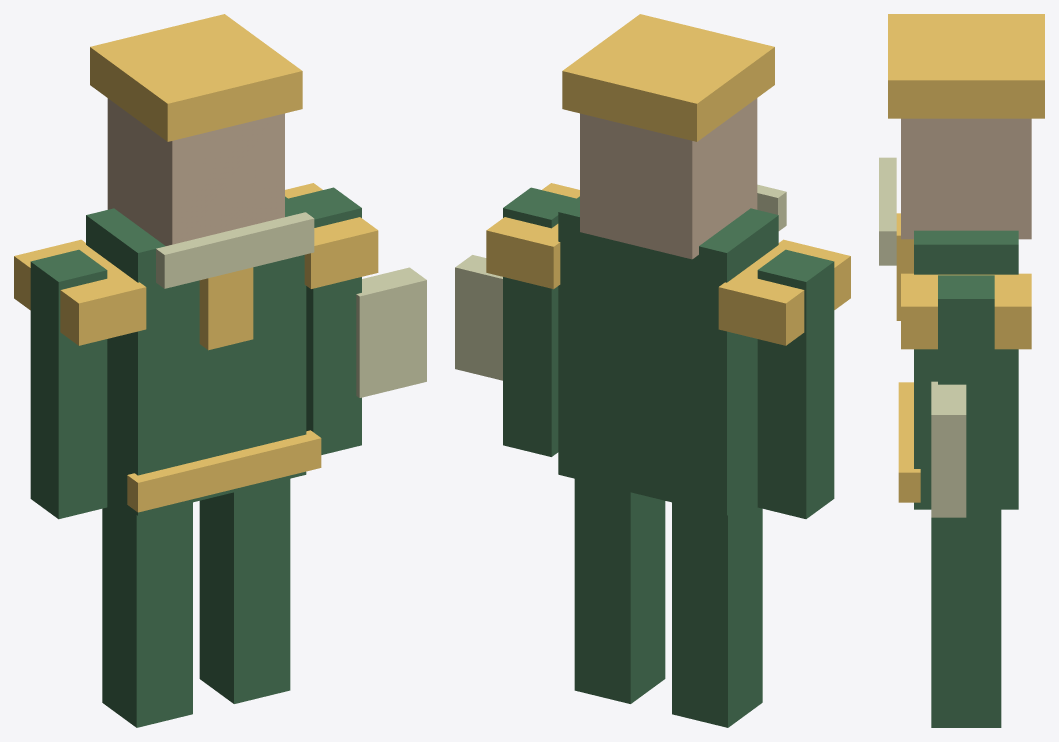
The model's file is 05_thorne_dubwater_marshal_of.glb.
The picture shows the model from 3 angles, left to right: view 1: azimuth 30°, elevation 25°; view 2: azimuth 150°, elevation 25°; view 3: azimuth 270°, elevation 25°; orthographic projection.
Visible parts, largest first — view 1: Thorne Dubwater, Marshal of; view 2: Thorne Dubwater, Marshal of; view 3: Thorne Dubwater, Marshal of.
Boxes of the visible parts, <box> form: Thorne Dubwater, Marshal of: <box>14,14,426,727</box>; Thorne Dubwater, Marshal of: <box>455,14,850,727</box>; Thorne Dubwater, Marshal of: <box>879,14,1044,727</box>.
Size of the model in its own units: 0.9059 by 1.51 by 0.3531.
